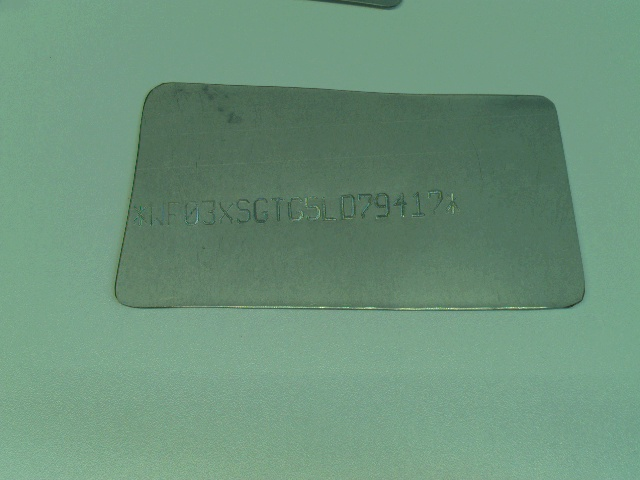0: (183, 199, 199, 226)
1: (410, 190, 426, 219)
3: (200, 199, 217, 225)
4: (392, 192, 408, 219)
5: (304, 194, 322, 221)
7: (426, 189, 445, 220), (356, 192, 374, 219)
9: (372, 191, 391, 219)
d: (339, 193, 357, 220)
f: (166, 201, 181, 225)
g: (287, 194, 305, 222), (252, 197, 271, 223)
l: (320, 195, 337, 221)
s: (236, 198, 252, 222)
t: (270, 195, 285, 223)
w: (148, 203, 166, 226)
x: (217, 199, 235, 225)
